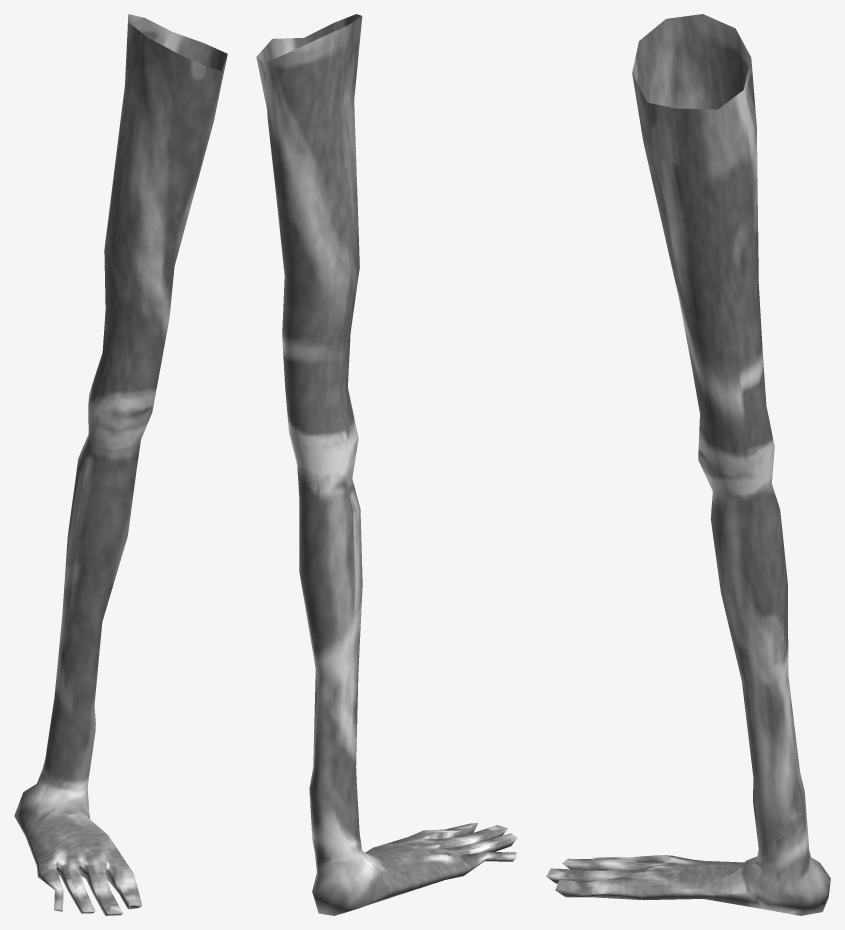
The model's file is rightleg.obj.
3 renders of one model, left to right at view 1: azimuth 30°, elevation 25°; view 2: azimuth 150°, elevation 25°; view 3: azimuth 270°, elevation 25°, orthographic. The views are drawn at different scales.
Parts seen in each view (by area): view 1: body; view 2: body; view 3: body.
Part boxes in pixels (x1,y1,x2,y2): body: (14,14,227,915); body: (256,14,517,915); body: (546,14,830,915).
Size of the model in its own units: 49.08 by 188 by 53.15.
Materials: 2 (2 with a texture image).
